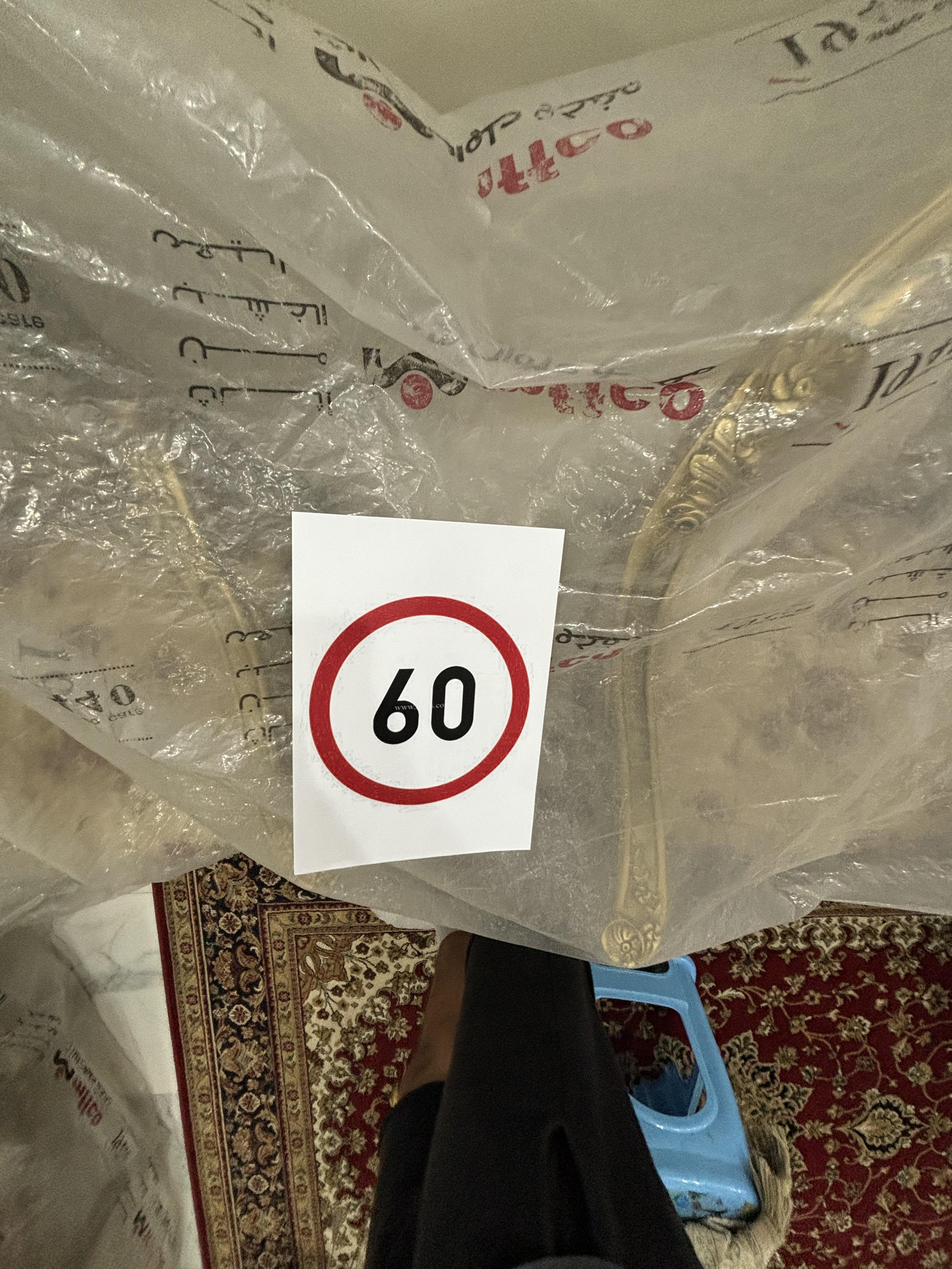60-Speed: (307, 589, 537, 808)
